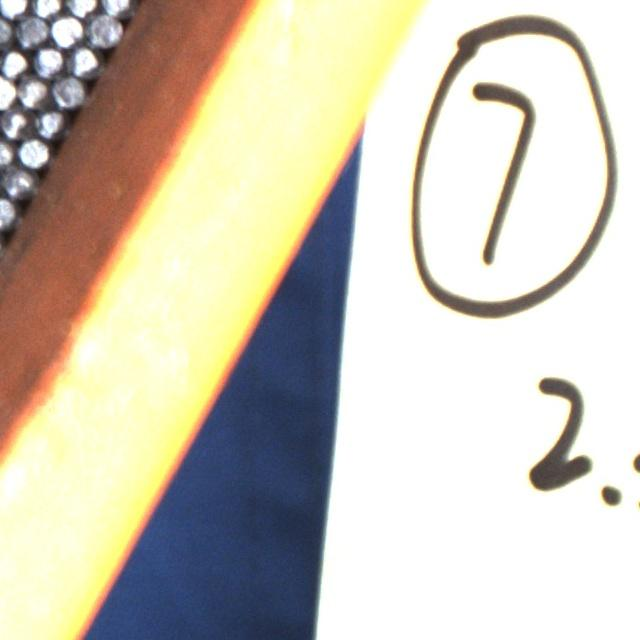tool: (51, 73, 86, 108), (50, 13, 84, 47), (14, 13, 48, 47), (15, 74, 49, 108), (87, 13, 120, 47), (65, 43, 98, 77), (17, 135, 50, 168), (31, 105, 64, 138), (32, 43, 64, 77), (0, 164, 32, 197), (0, 105, 31, 138), (0, 45, 30, 78), (31, 0, 64, 18), (65, 0, 98, 17), (100, 0, 133, 17), (0, 74, 16, 108), (0, 196, 17, 228), (0, 0, 29, 18), (0, 136, 15, 170), (0, 14, 14, 48)
